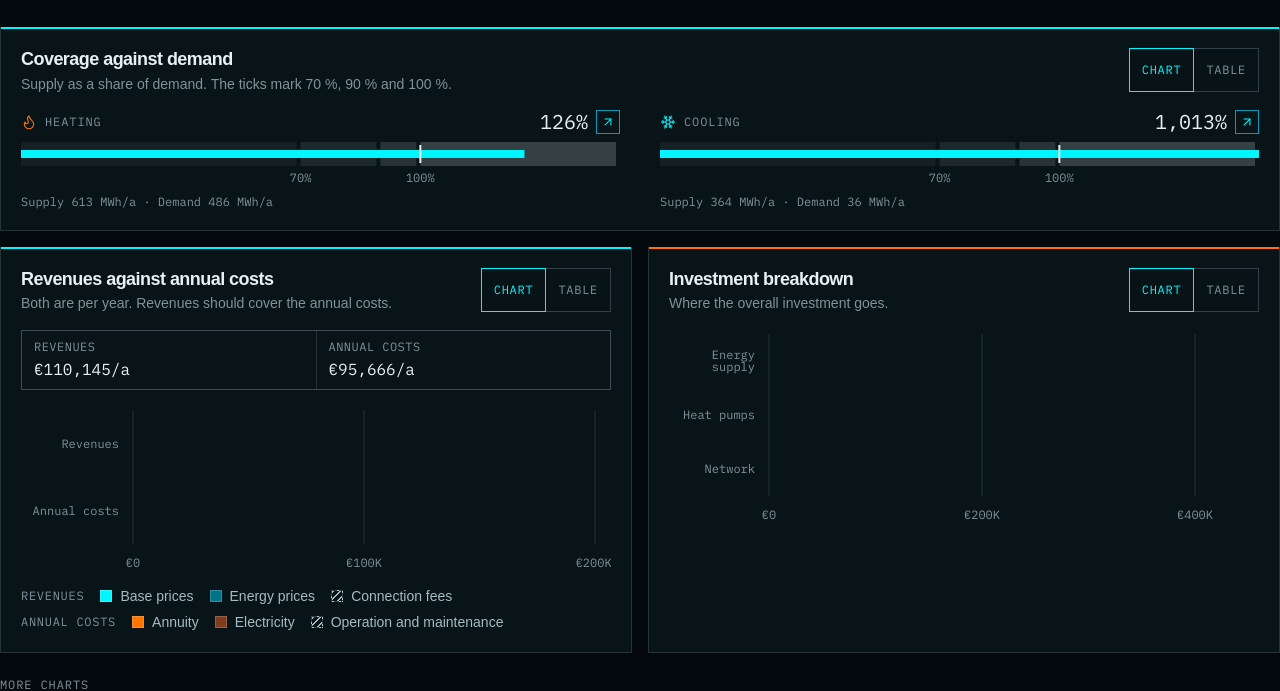
Test case: ChartsSection › gives chart-economics a table view with the same numbers
Click the radio button labelled "Table" in the row of "Revenues against annual costs" at (578, 290), box [545,268,611,312]
(page scrolled)
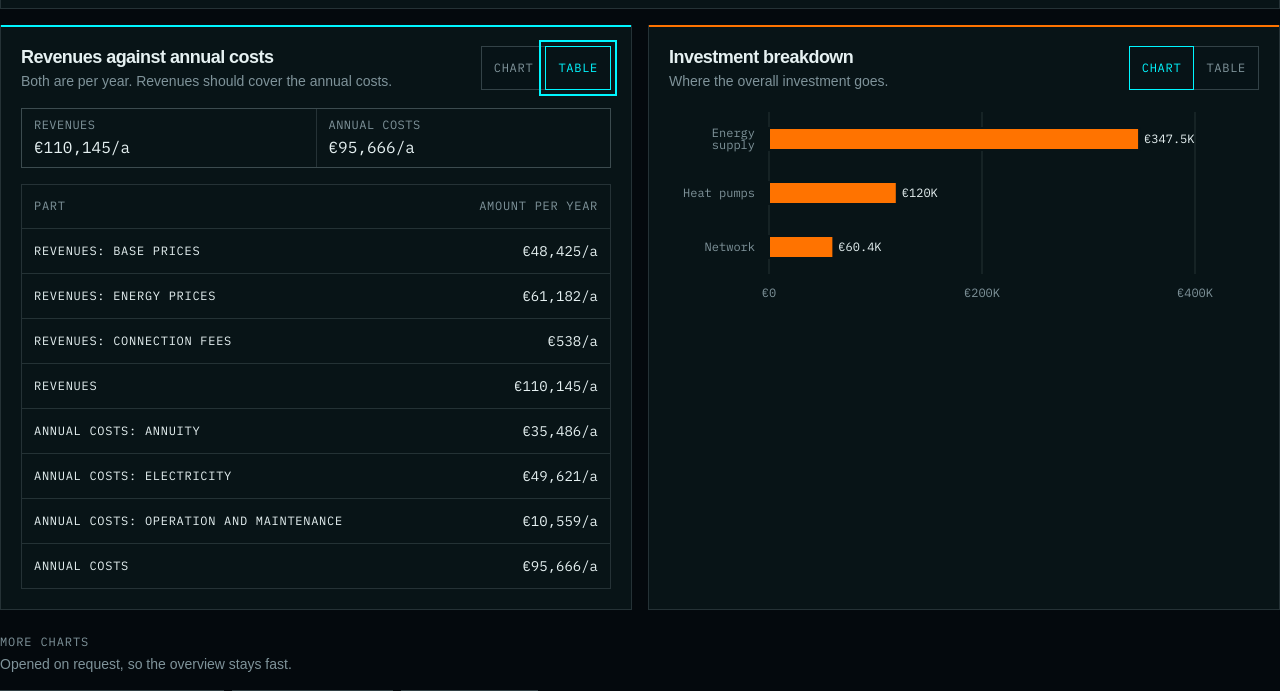
Expected: the table is shown, [22,184,610,588]
